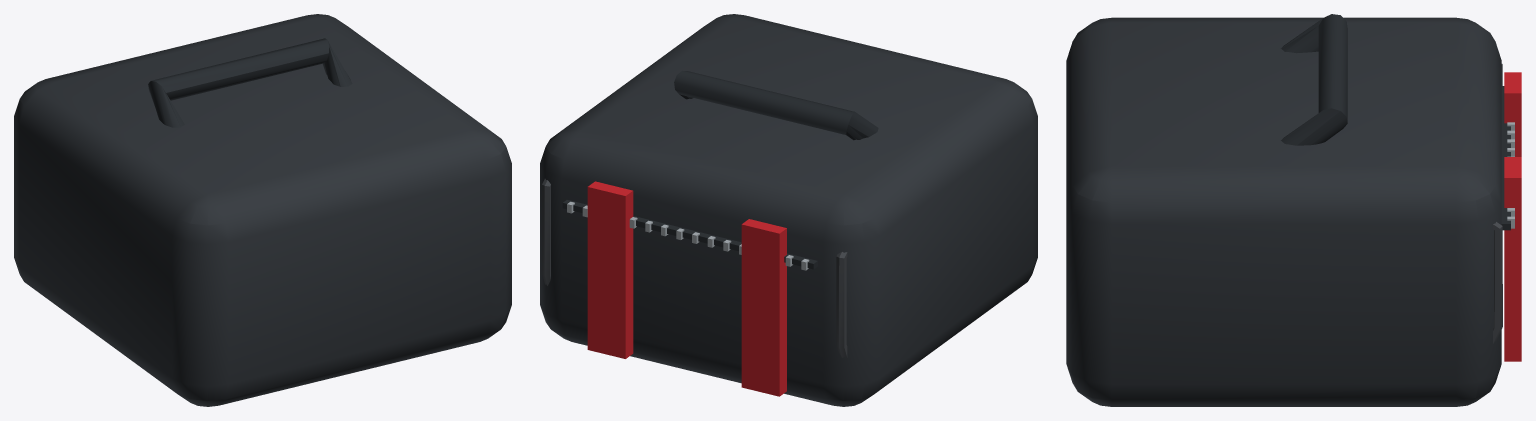
Rendered from ob_small_bag_g6.glb.
3 views of the same model, side by side, from view 1: azimuth 30°, elevation 25°; view 2: azimuth 150°, elevation 25°; view 3: azimuth 270°, elevation 25° (orthographic). The views are drawn at different scales.
Visible parts, largest first — view 1: ob_small_bag_g6; view 2: ob_small_bag_g6; view 3: ob_small_bag_g6.
Boxes of the visible parts, box(x1,y1,x2,y2) form: ob_small_bag_g6: box(14, 14, 511, 406); ob_small_bag_g6: box(540, 14, 1037, 406); ob_small_bag_g6: box(1066, 14, 1521, 406).
Bounding box in the file's own units: 0.22 × 0.15 × 0.23.
